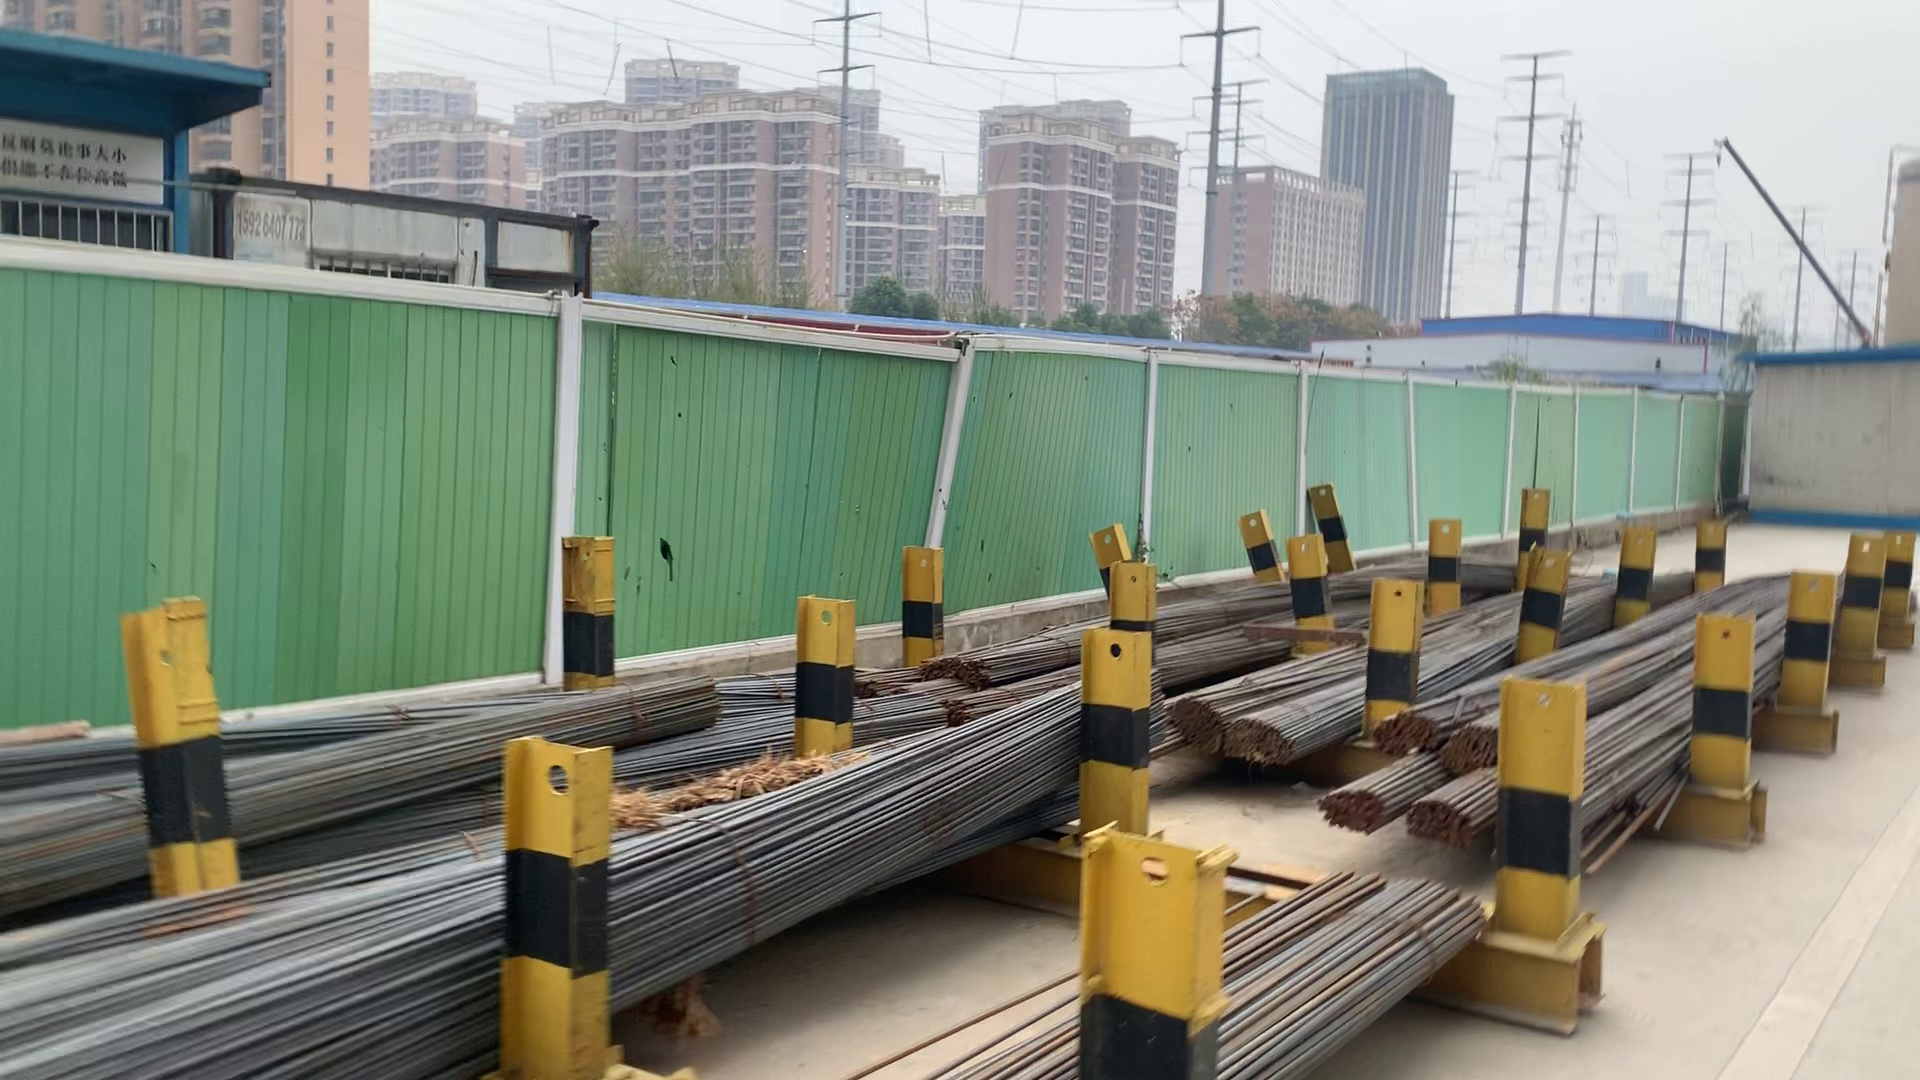rebar: (1164, 691, 1224, 764), (1403, 795, 1481, 848), (1222, 717, 1299, 766), (1435, 723, 1502, 775), (1327, 781, 1385, 839), (909, 654, 992, 688), (1373, 712, 1433, 756), (945, 698, 968, 727)
